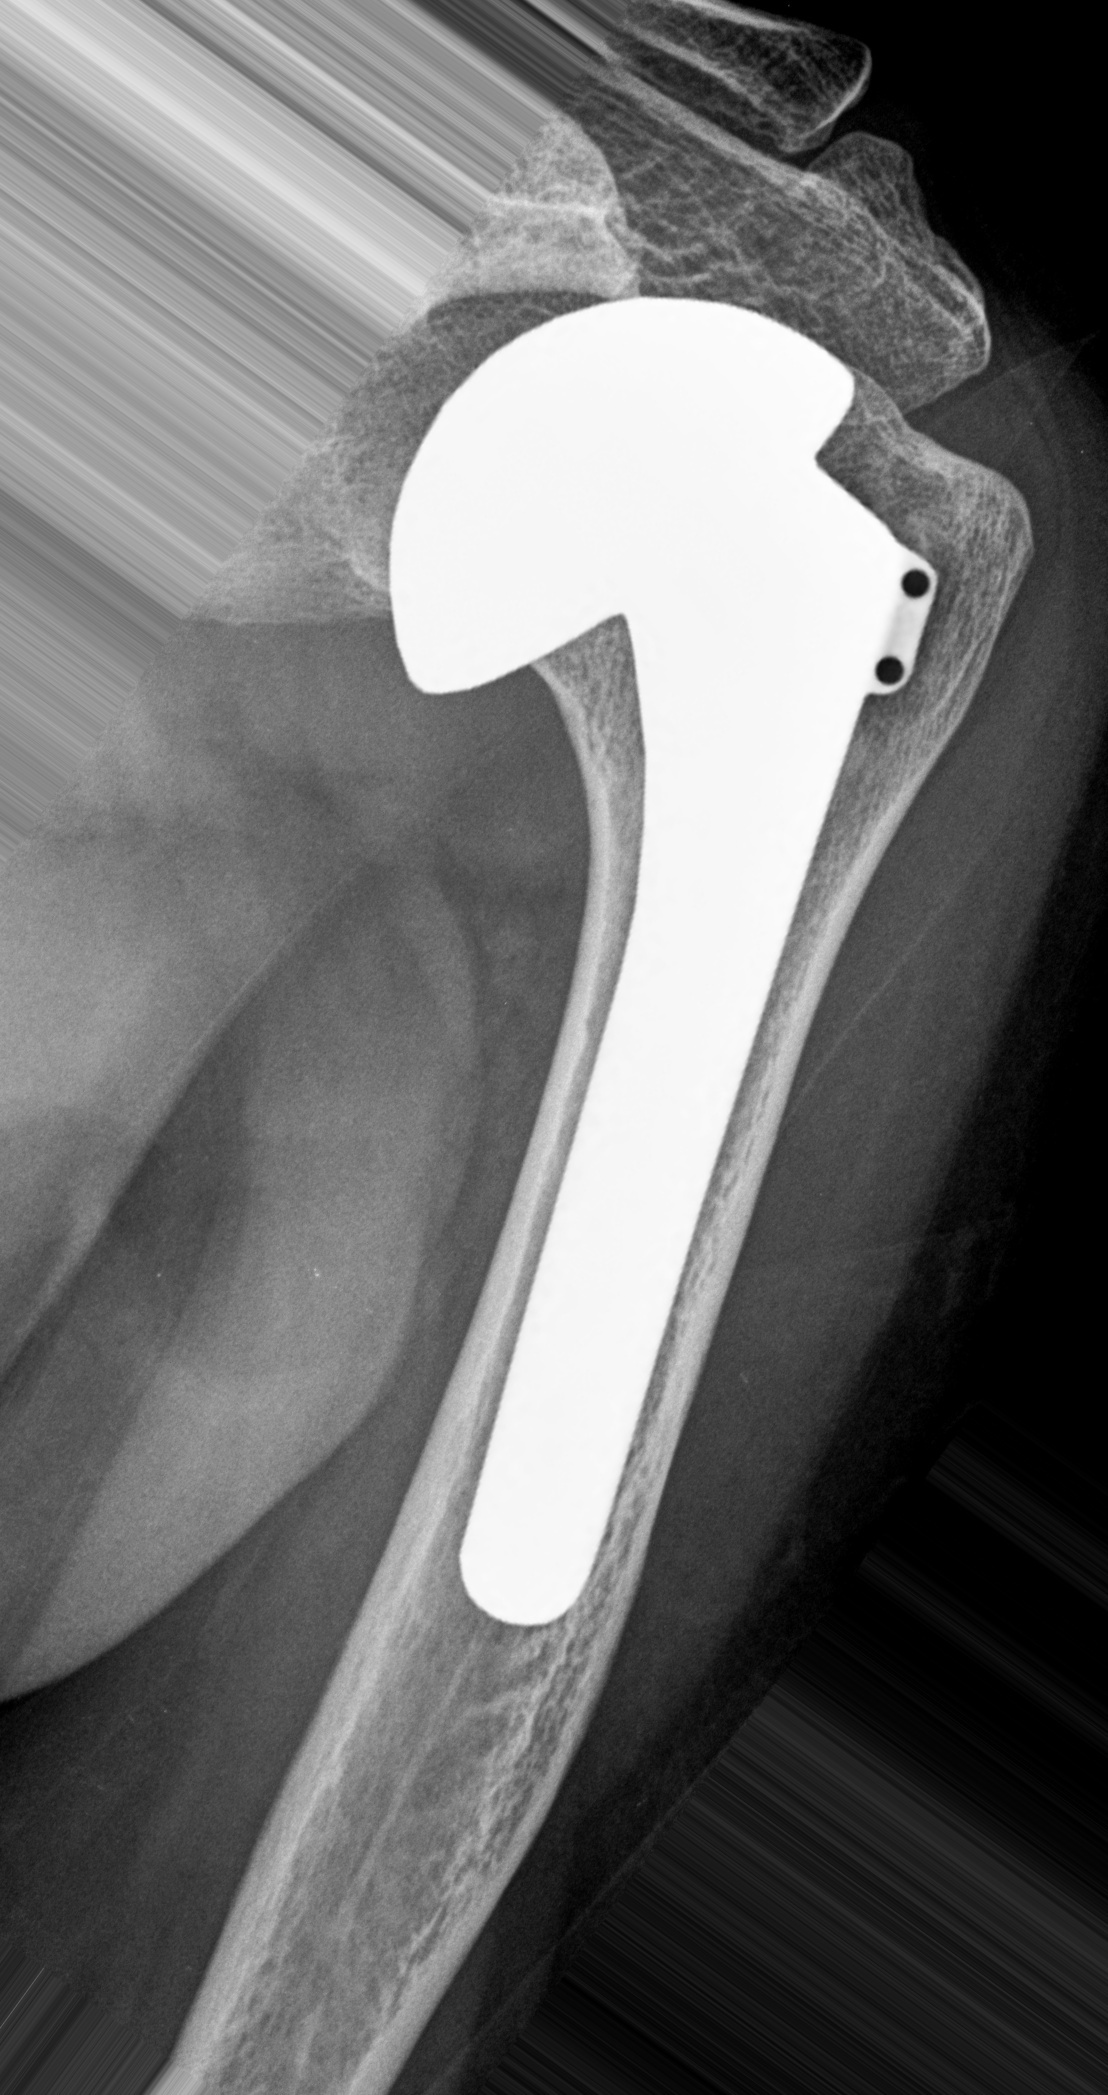Shoulder - AequalisPressfit - Tornier: (384, 285, 947, 732)
